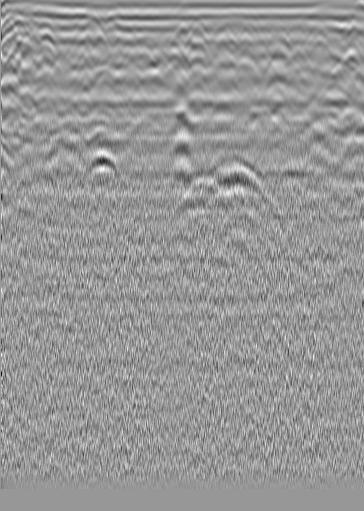가스: (75, 147, 114, 186)
상수: (308, 21, 328, 41)
오수: (37, 30, 61, 51)
우수: (187, 16, 207, 36)
